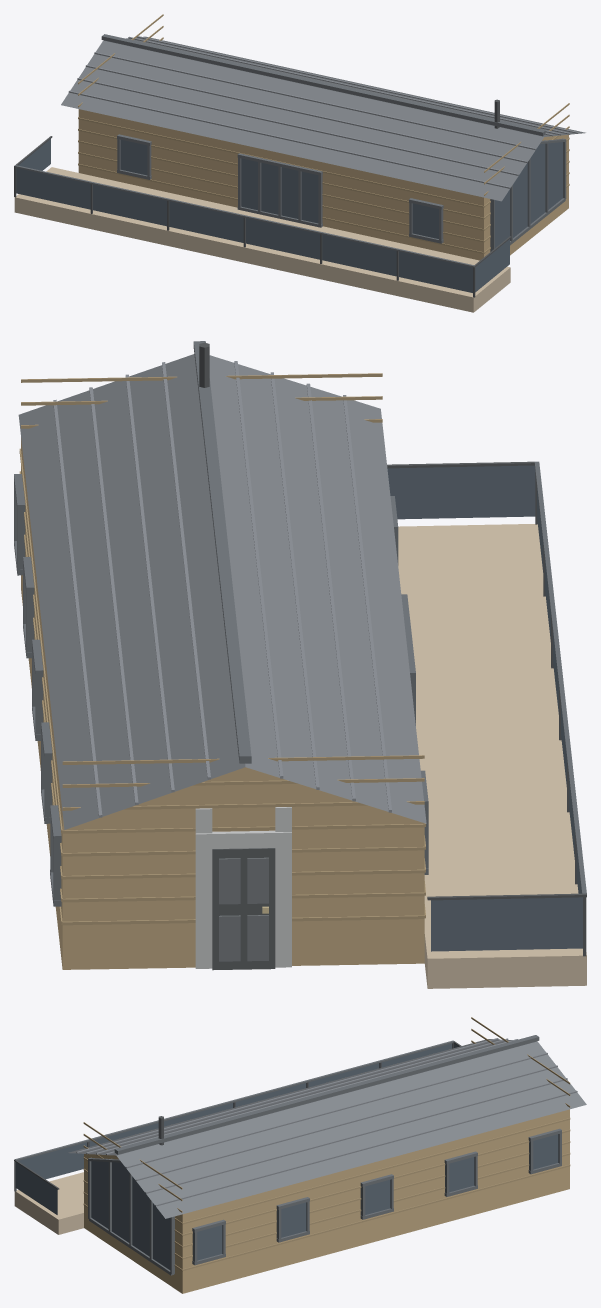
3 renders of one model, top to bottom at view 1: azimuth 30°, elevation 25°; view 2: azimuth 150°, elevation 25°; view 3: azimuth 270°, elevation 25°, orthographic. The views are drawn at different scales.
Parts seen in each view (by area): view 1: slate, door_wood, larch, slate_dk, slate_lt, door_wood_p, window_glass_015, window_glass_005, window_glass_001, window_glass_003, window_glass_002, window_glass_004 (+10 smaller); view 2: slate, larch, door_wood, slate_dk, slate_lt, door_wood_p, window_glass_007, window_glass_008, stone_band, door_dark_p, door_dark, pipe; view 3: slate, door_wood, slate_dk, slate_lt, door_wood_p, window_glass_015, larch, window_glass_006, window_glass_008, window_glass_016, window_glass_020, window_glass_017 (+8 smaller).
Part boxes in pixels (x1=…): slate: x1=61, y1=36, x2=585, y2=201; door_wood: x1=78, y1=109, x2=568, y2=260; larch: x1=14, y1=167, x2=510, y2=312; slate_dk: x1=15, y1=34, x2=566, y2=267; slate_lt: x1=68, y1=36, x2=578, y2=188; door_wood_p: x1=78, y1=14, x2=569, y2=253; window_glass_015: x1=495, y1=142, x2=562, y2=247; window_glass_005: x1=322, y1=234, x2=396, y2=276; window_glass_001: x1=16, y1=168, x2=90, y2=209; window_glass_003: x1=169, y1=201, x2=243, y2=242; window_glass_002: x1=93, y1=184, x2=166, y2=226; window_glass_004: x1=246, y1=218, x2=319, y2=259; slate: x1=18, y1=354, x2=426, y2=829; larch: x1=398, y1=524, x2=586, y2=988; door_wood: x1=21, y1=438, x2=424, y2=969; slate_dk: x1=14, y1=341, x2=586, y2=906; slate_lt: x1=53, y1=361, x2=391, y2=817; door_wood_p: x1=19, y1=373, x2=425, y2=925; window_glass_007: x1=431, y1=897, x2=582, y2=951; window_glass_008: x1=387, y1=465, x2=535, y2=519; stone_band: x1=195, y1=807, x2=291, y2=968; door_dark_p: x1=219, y1=857, x2=268, y2=961; door_dark: x1=212, y1=848, x2=275, y2=970; pipe: x1=199, y1=342, x2=586, y2=956; slate: x1=68, y1=1039, x2=586, y2=1218; door_wood: x1=84, y1=1109, x2=569, y2=1293; slate_dk: x1=15, y1=1035, x2=561, y2=1275; slate_lt: x1=76, y1=1038, x2=577, y2=1206; door_wood_p: x1=83, y1=1017, x2=570, y2=1270; window_glass_015: x1=91, y1=1161, x2=170, y2=1269; larch: x1=14, y1=1172, x2=83, y2=1234; window_glass_006: x1=18, y1=1142, x2=87, y2=1179; window_glass_008: x1=15, y1=1162, x2=57, y2=1214; window_glass_016: x1=197, y1=1225, x2=222, y2=1260; window_glass_020: x1=533, y1=1134, x2=558, y2=1169; window_glass_017: x1=281, y1=1202, x2=306, y2=1237.
Bounding box in the file's own units: 14.79 × 4.44 × 16.94.
